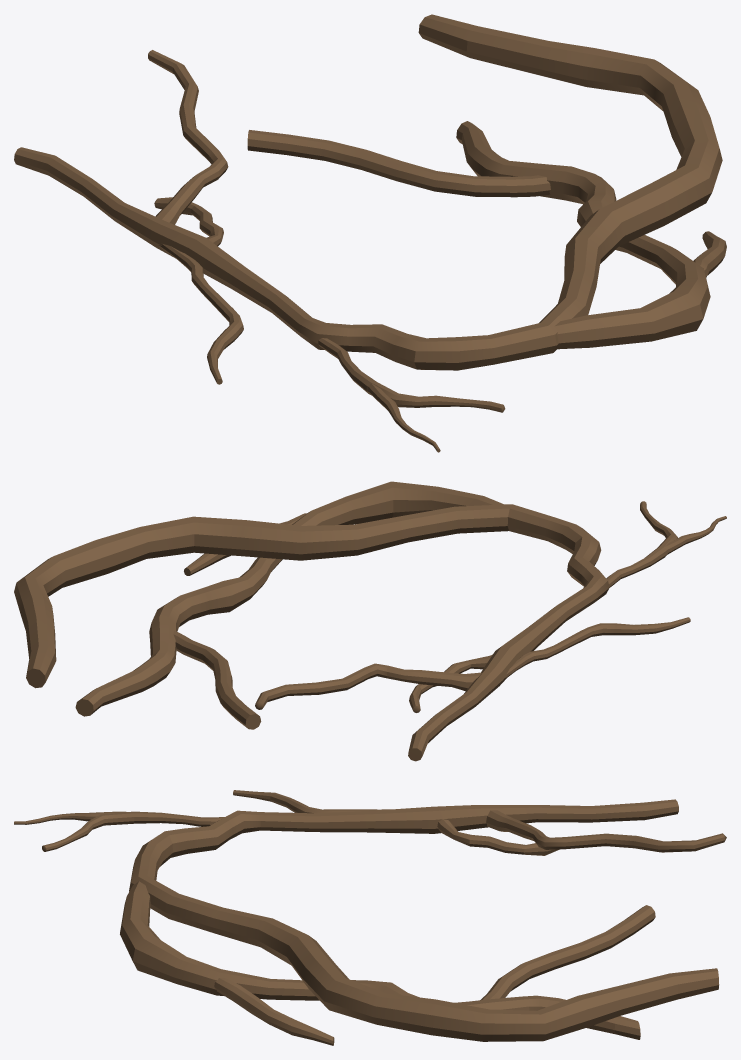
3 views of the same model, one above another, from view 1: azimuth 30°, elevation 25°; view 2: azimuth 150°, elevation 25°; view 3: azimuth 270°, elevation 25° (orthographic). The views are drawn at different scales.
Parts seen in each view (by area): view 1: pasted__pasted__pasted__pasted__pasted__pasted__pasted__past (×9); view 2: pasted__pasted__pasted__pasted__pasted__pasted__pasted__past (×9); view 3: pasted__pasted__pasted__pasted__pasted__pasted__pasted__past (×9).
Boxes of the visible parts, bbox=[...] form: pasted__pasted__pasted__pasted__pasted__pasted__pasted__past (×9): bbox=[14, 14, 726, 452]; pasted__pasted__pasted__pasted__pasted__pasted__pasted__past (×9): bbox=[14, 481, 726, 761]; pasted__pasted__pasted__pasted__pasted__pasted__pasted__past (×9): bbox=[14, 790, 726, 1045].
Bounding box in the file's own units: 55.06 × 9.92 × 64.57.
